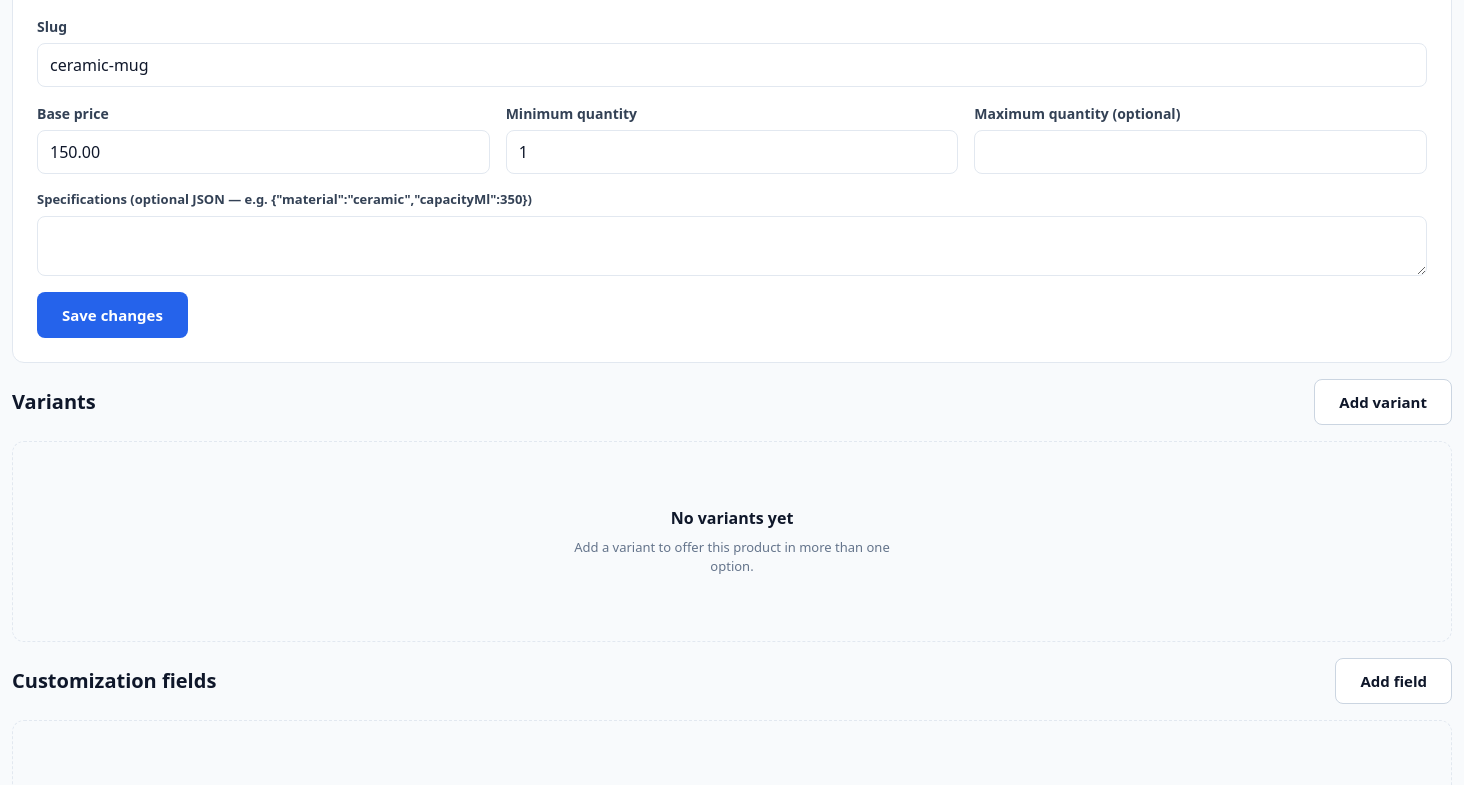
Test: AdminProductDetailPage › adds a variant via POST /products/:id/variants and reflects it without a page refetch
(page scrolled)
Click the button "Add variant": (1383, 402) x1=1314 y1=379 x2=1452 y2=425
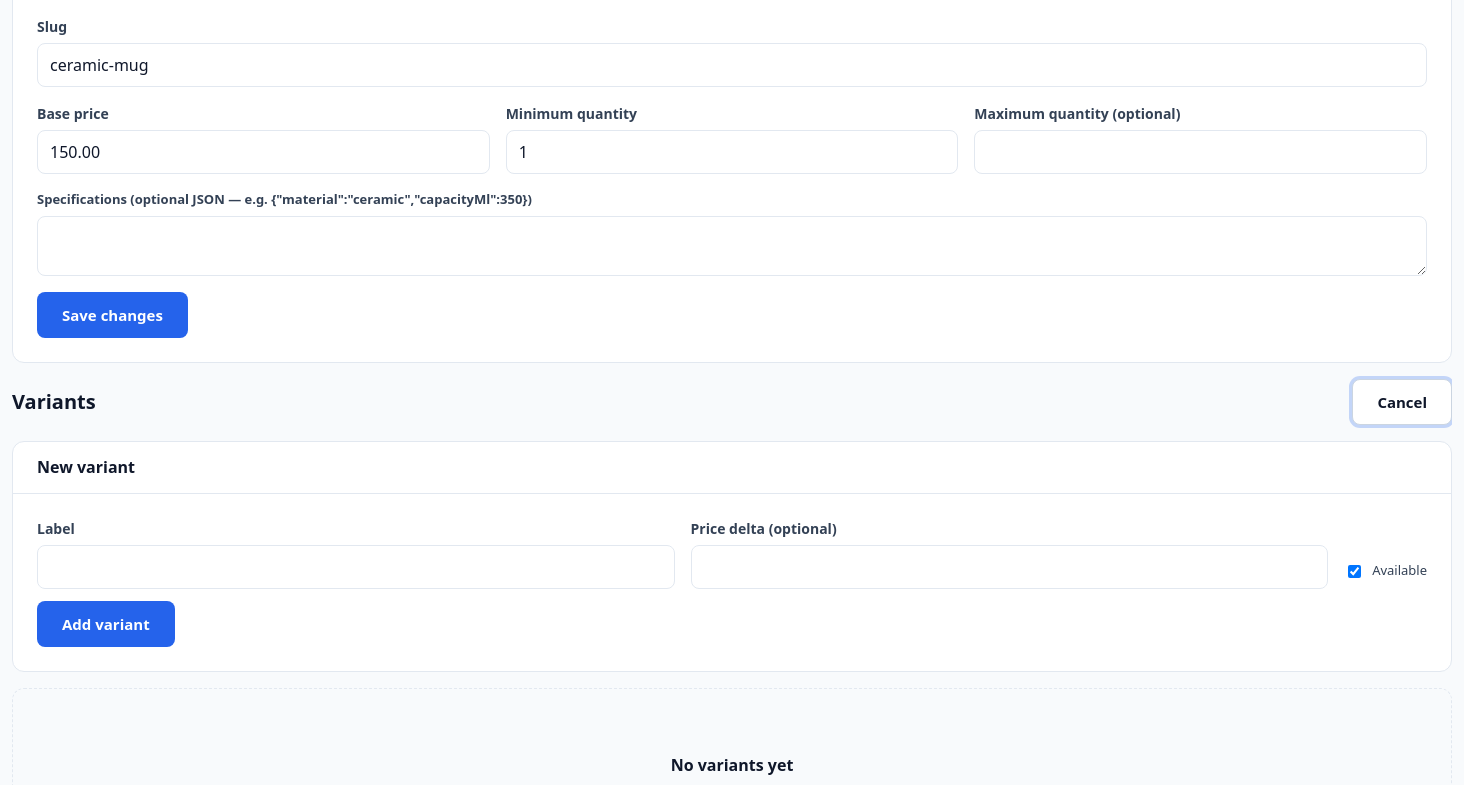
In the field labelled "Label": (356, 567) x1=37 y1=545 x2=675 y2=589, type "Large"
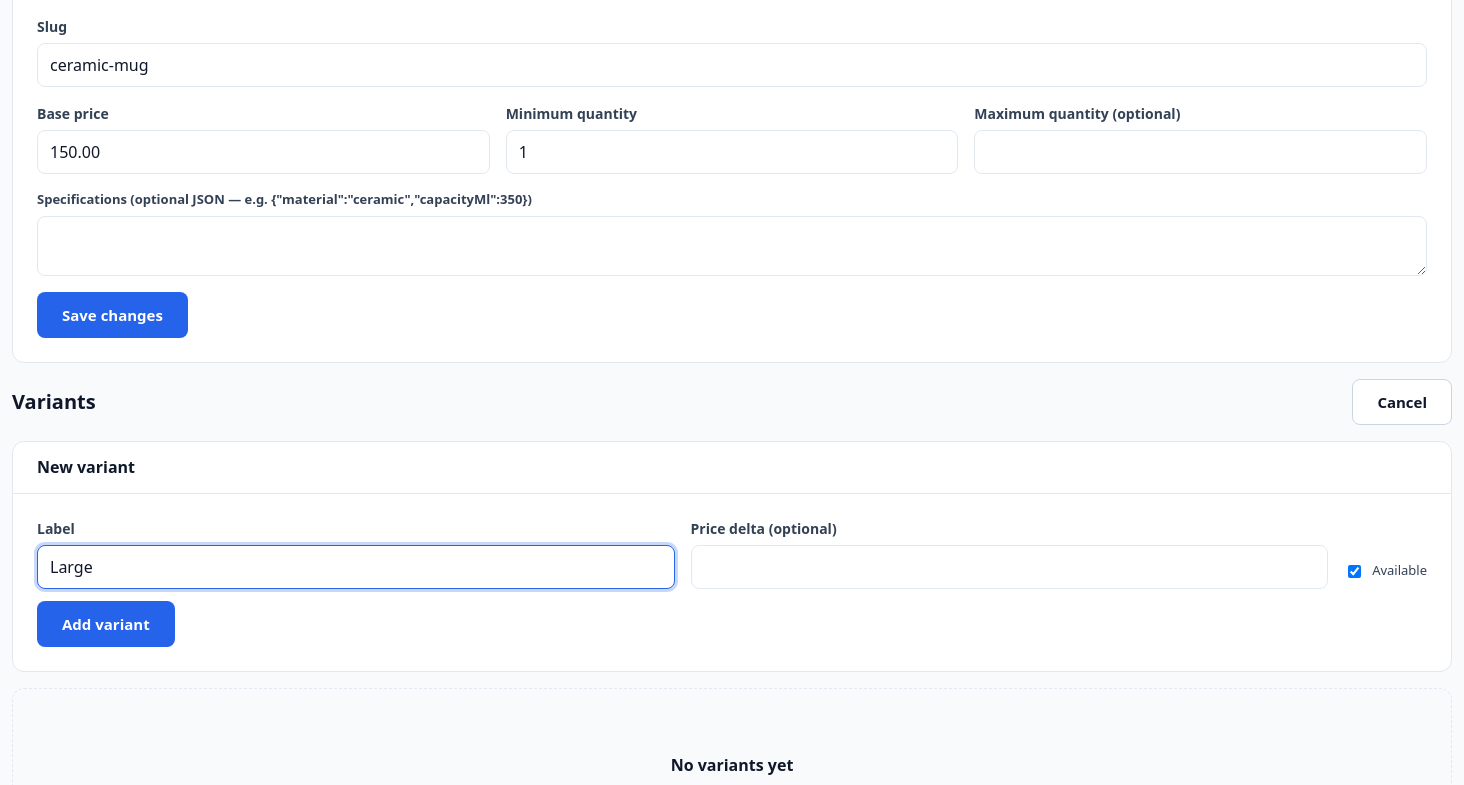
Click the button "Add variant": (106, 624) x1=37 y1=601 x2=175 y2=647
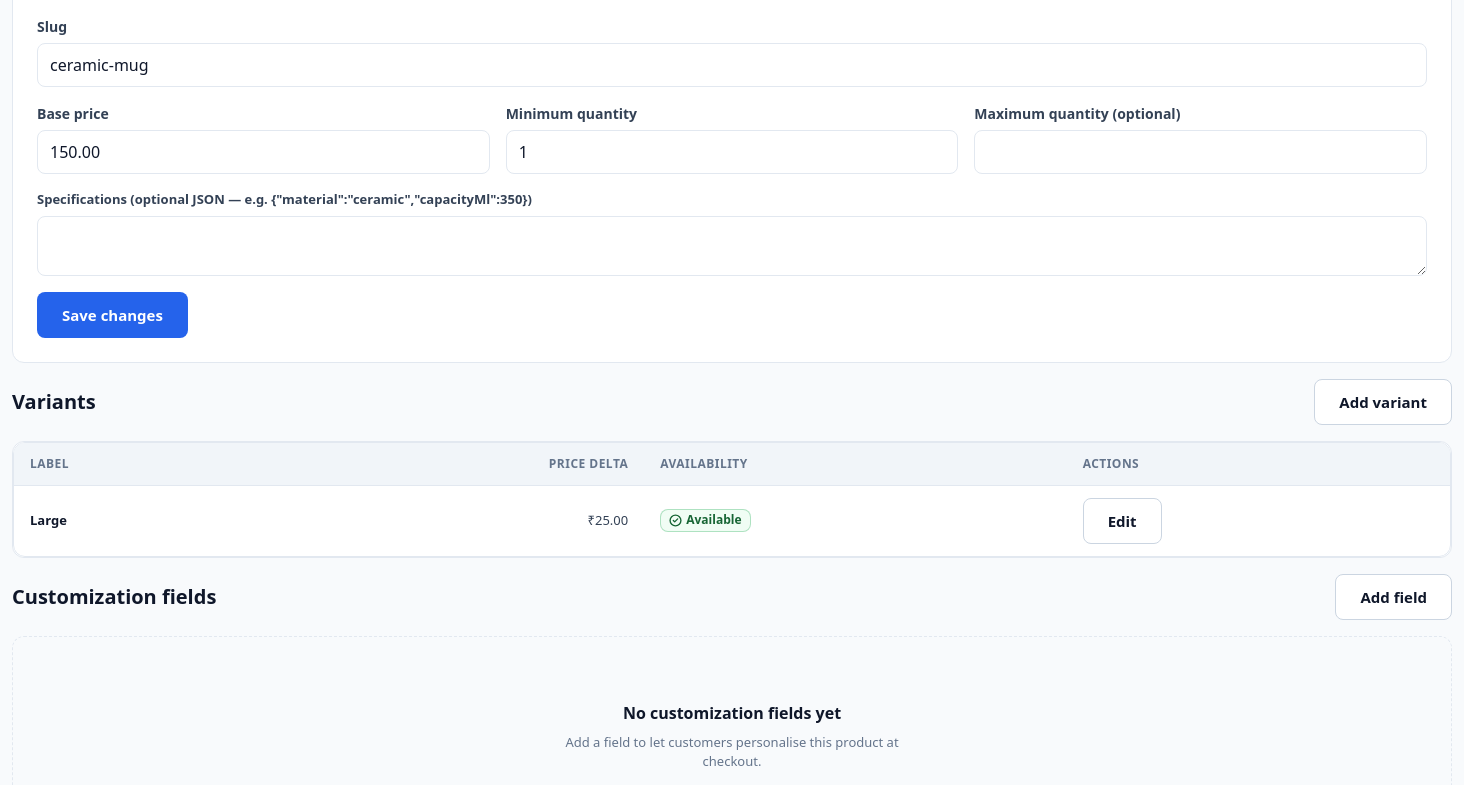
Expected: the text "Large" is shown, x1=30 y1=511 x2=67 y2=529
